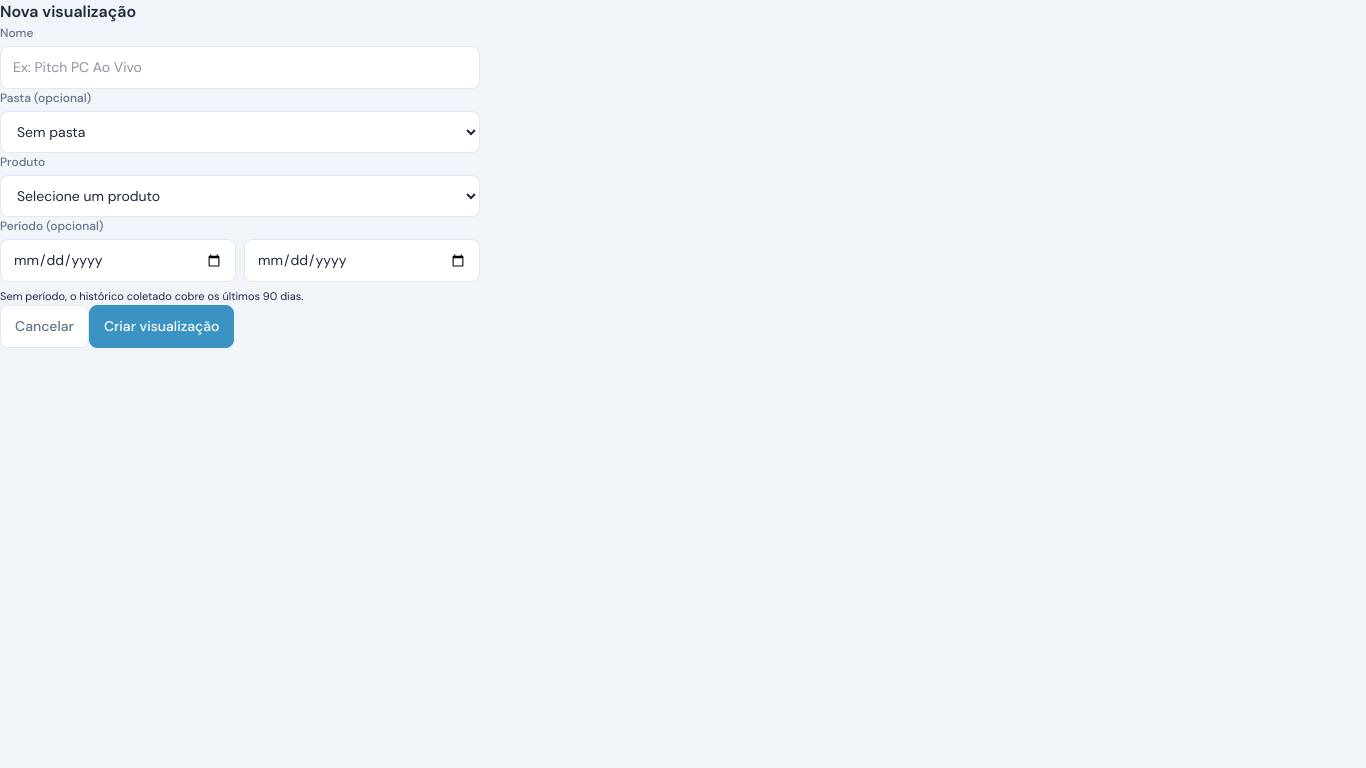
Test: ViewFormModal — criar › exige ao menos uma oferta
Step 1. Type "X" into the field with test id "view-form-name" → (240, 68), box [0, 46, 480, 89]
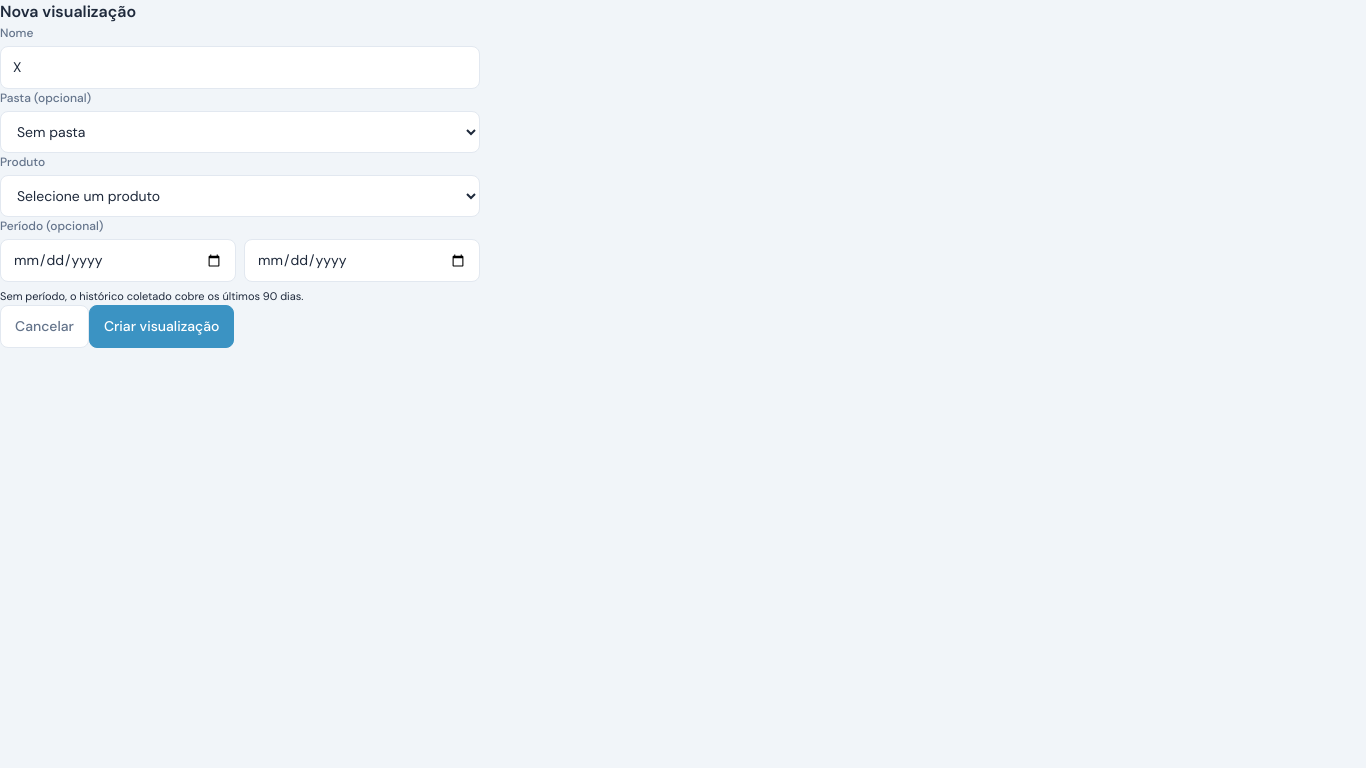
Step 2. Select "Produto Um" in the dropdown with test id "view-form-product" → (240, 196), box [0, 175, 480, 217]
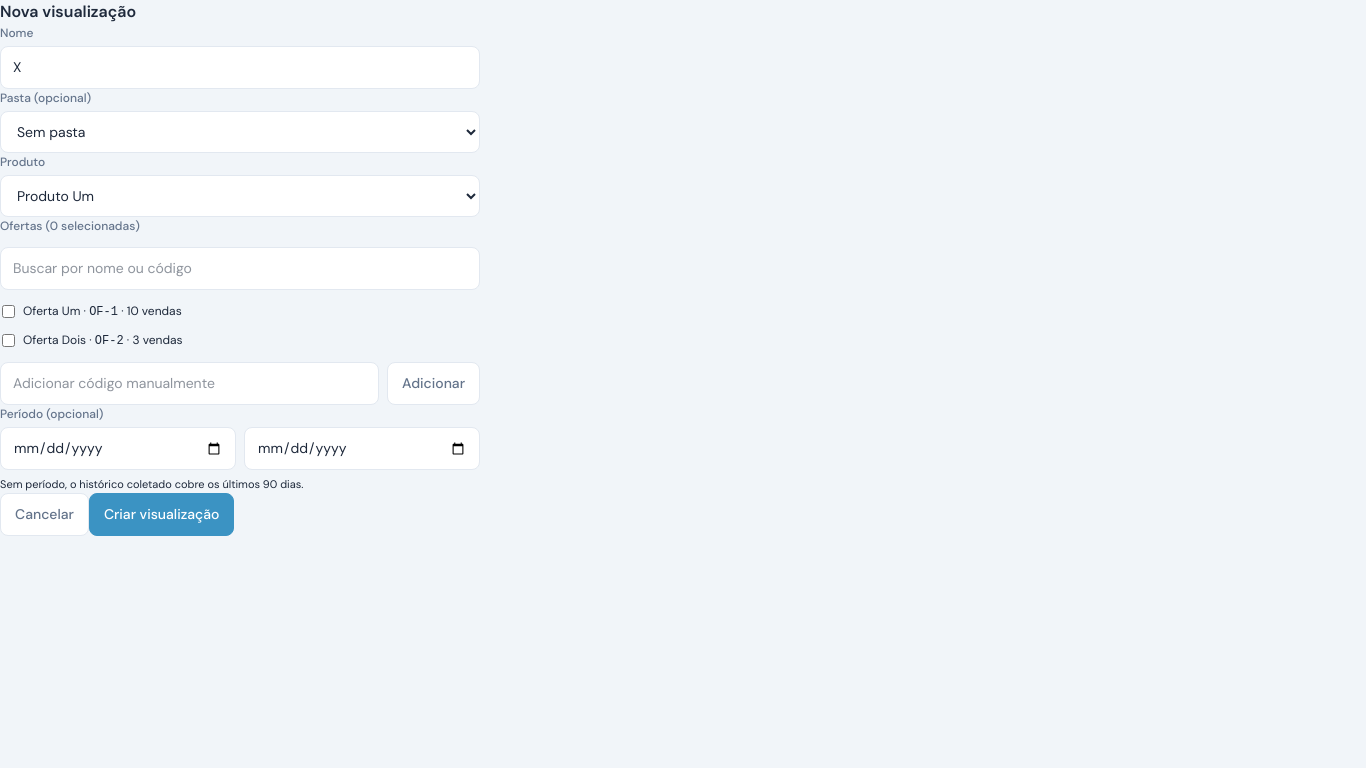
Result: the checkbox with test id "view-form-offer-OF-1" is shown at [2, 305, 15, 318]
Step 3. Click the button with test id "view-form-save" → (162, 514), box [89, 492, 234, 536]
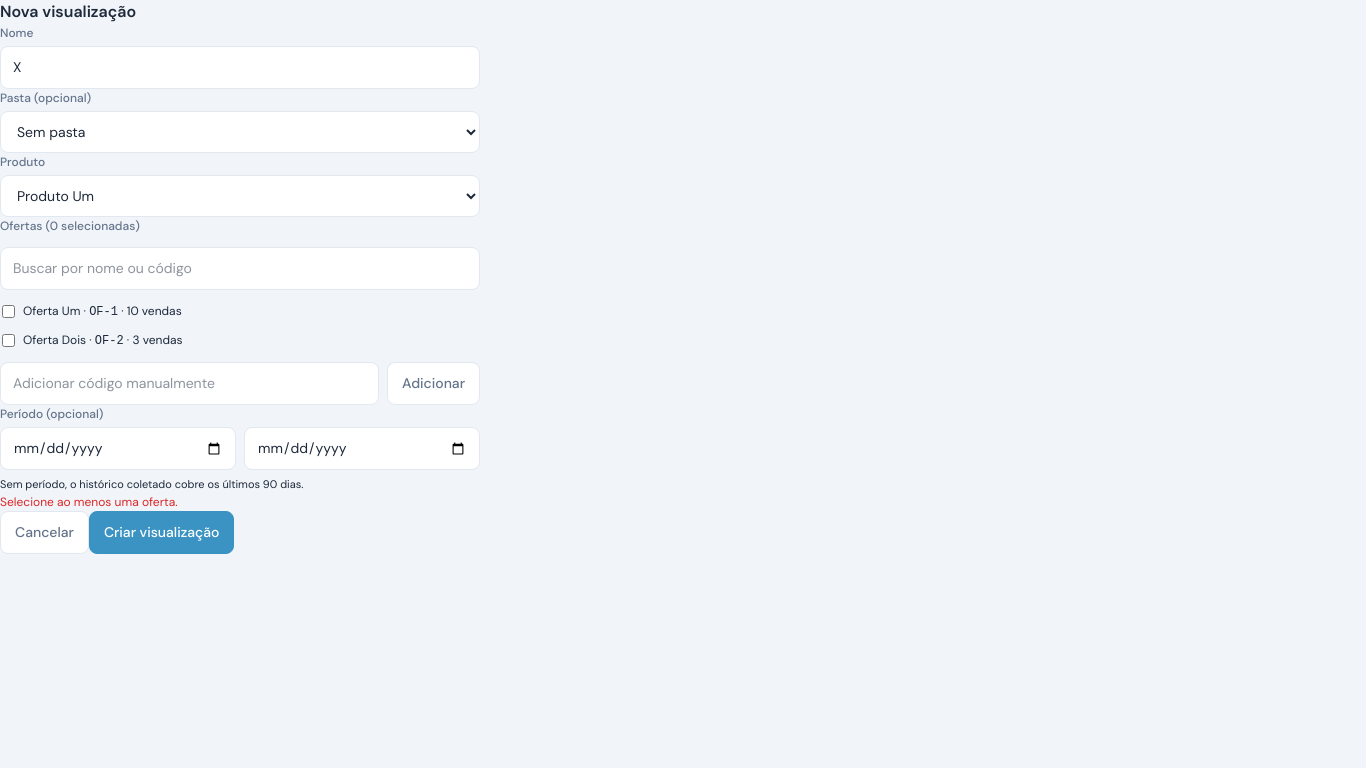
Result: the message with test id "view-form-error" shows "ao menos uma oferta" at [0, 494, 178, 510]
